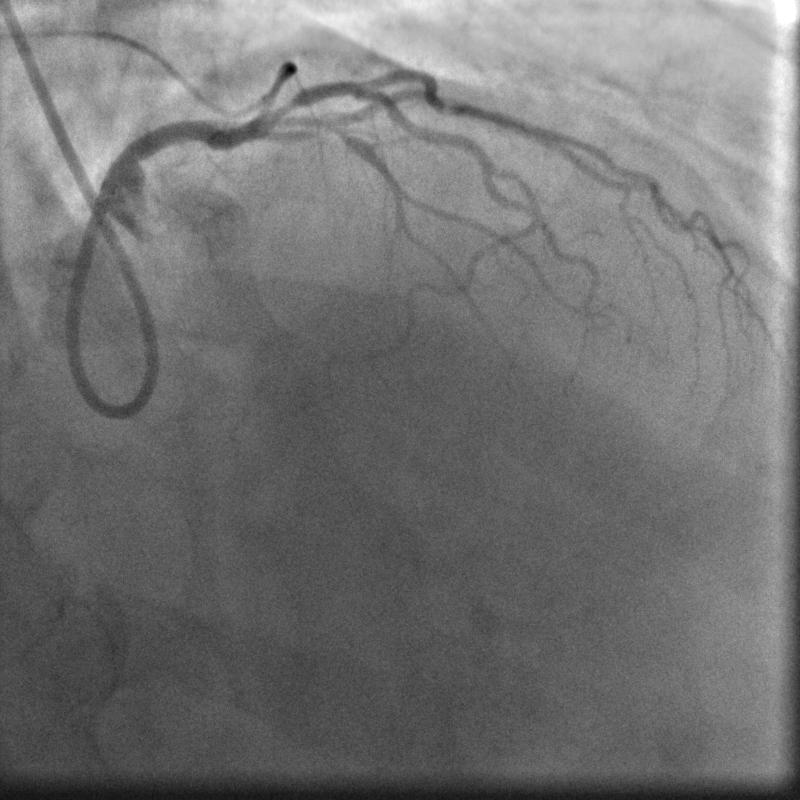Stenosis: (269, 94, 299, 129)
